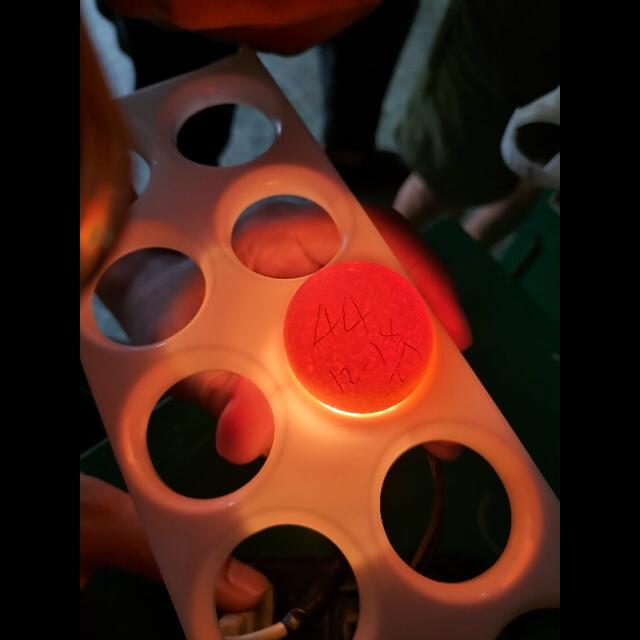Infertile: (278, 258, 436, 420)
